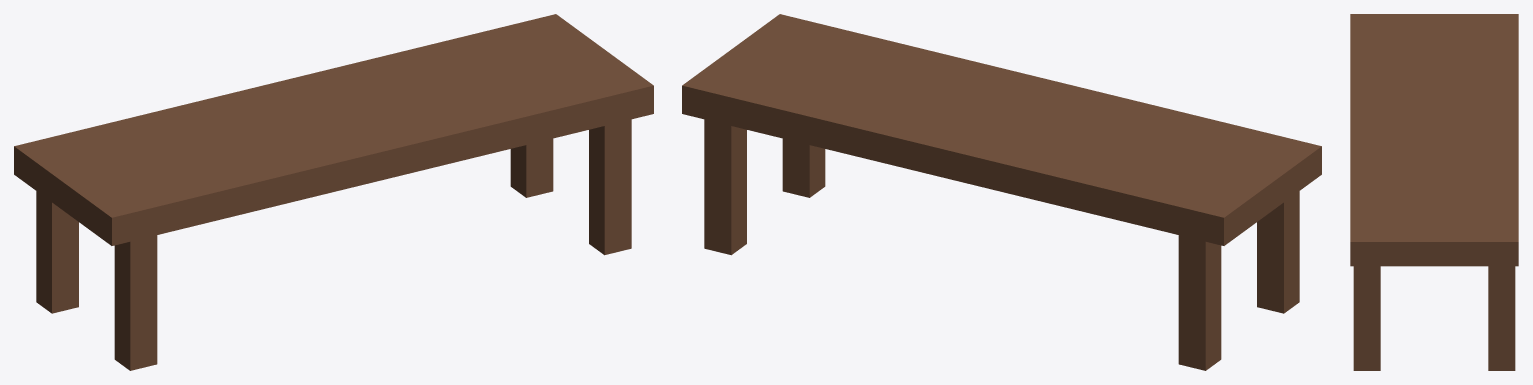
The model's file is prop_bench_1.glb.
3 renders of one model, left to right at view 1: azimuth 30°, elevation 25°; view 2: azimuth 150°, elevation 25°; view 3: azimuth 270°, elevation 25°, orthographic. The views are drawn at different scales.
Visible parts, largest first — view 1: PROP_Bench_1; view 2: PROP_Bench_1; view 3: PROP_Bench_1.
Boxes of the visible parts, <box> form: PROP_Bench_1: <box>14,14,653,370</box>; PROP_Bench_1: <box>682,14,1321,370</box>; PROP_Bench_1: <box>1350,14,1518,370</box>.
Size of the model in its own units: 1.6 by 0.45 by 0.5.
